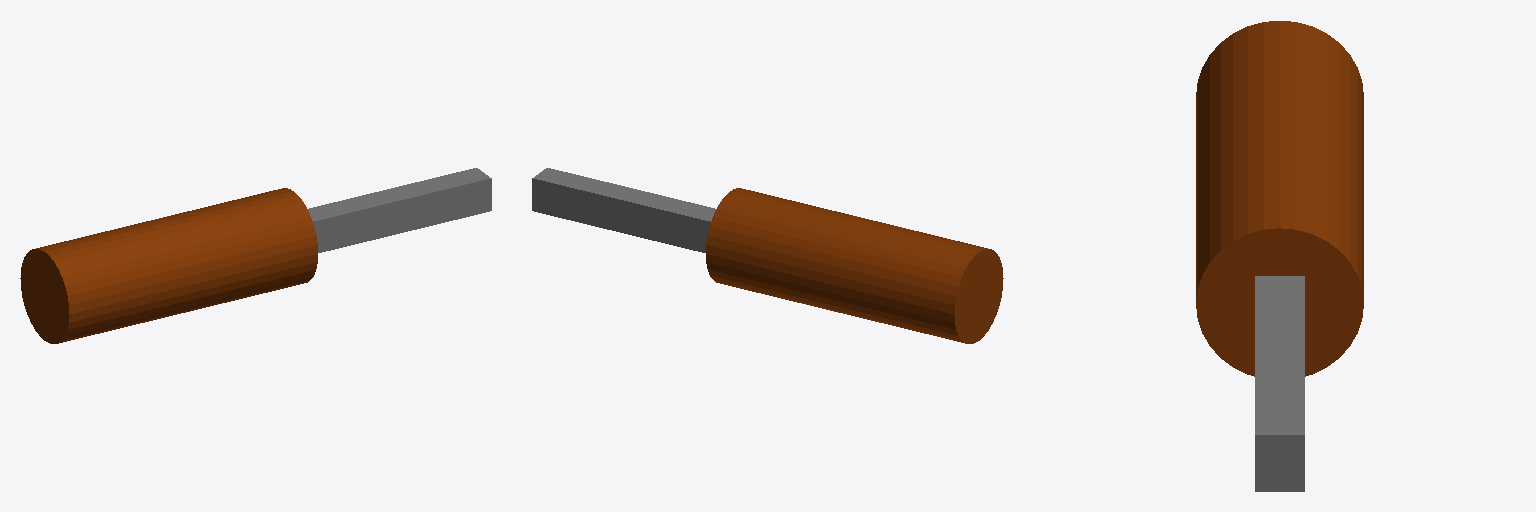
The robot description file, URDF, robot "handle_head":
<?xml version="1.0"?>
<robot name="handle_head">

  <link name="handle_head">
    <!-- Handle -->
    <visual>
              <origin xyz="0 0 0" rpy="0 -1.5707963267948966 0"/>
        <geometry>
          <cylinder length="0.10811249412404272" radius="0.01846304915227619"/>
        </geometry>
        
      <material name="brown">
        <color rgba="0.55 0.27 0.07 1.0"/>
      </material>
    </visual>
    <collision>
              <origin xyz="0 0 0" rpy="0 -1.5707963267948966 0"/>
        <geometry>
          <cylinder length="0.10811249412404272" radius="0.01846304915227619"/>
        </geometry>
        
    </collision>

    <!-- Head -->
    <visual>
              <origin xyz="0.0954071413219178 0 0" rpy="0 0 0"/>
        <geometry>
          <box size="0.08270178851979287 0.011070797285960459 0.013670342370077504"/>
        </geometry>
        
      <material name="gray">
        <color rgba="0.5 0.5 0.5 1.0"/>
      </material>
    </visual>
    <collision>
              <origin xyz="0.0954071413219178 0 0" rpy="0 0 0"/>
        <geometry>
          <box size="0.08270178851979287 0.011070797285960459 0.013670342370077504"/>
        </geometry>
        
    </collision>

    <inertial>
      <origin xyz="0.024779363863428105 0 0" rpy="0 0 0"/>
      <mass value="0.09073884036476534"/>
      <inertia ixx="1.1631952951013147e-05" iyy="0.00027798616455731236" izz="0.0002778598543921819" ixy="0" ixz="0" iyz="0"/>
    </inertial>
  </link>

</robot>

--- What the picture shows (computed from the rendered views, not written in the file) ---
3 views of the same robot in one strip: view 1: azimuth 30°, elevation 25°; view 2: azimuth 150°, elevation 25°; view 3: azimuth 270°, elevation 25° (orthographic).
Robot: handle_head — 1 links, 0 joints (none); root link handle_head; default pose: every joint at zero.
Links seen in each view (by area): view 1: handle_head; view 2: handle_head; view 3: handle_head.
Boxes of the visible links, x1,y1,x2,y2 form: handle_head: (20,168,491,343); handle_head: (532,168,1003,343); handle_head: (1196,21,1363,491).
Size in the robot's own frame: 0.1908 by 0.0369 by 0.0369 metres.
Geometry: primitives only (box / cylinder / sphere), no mesh files.
